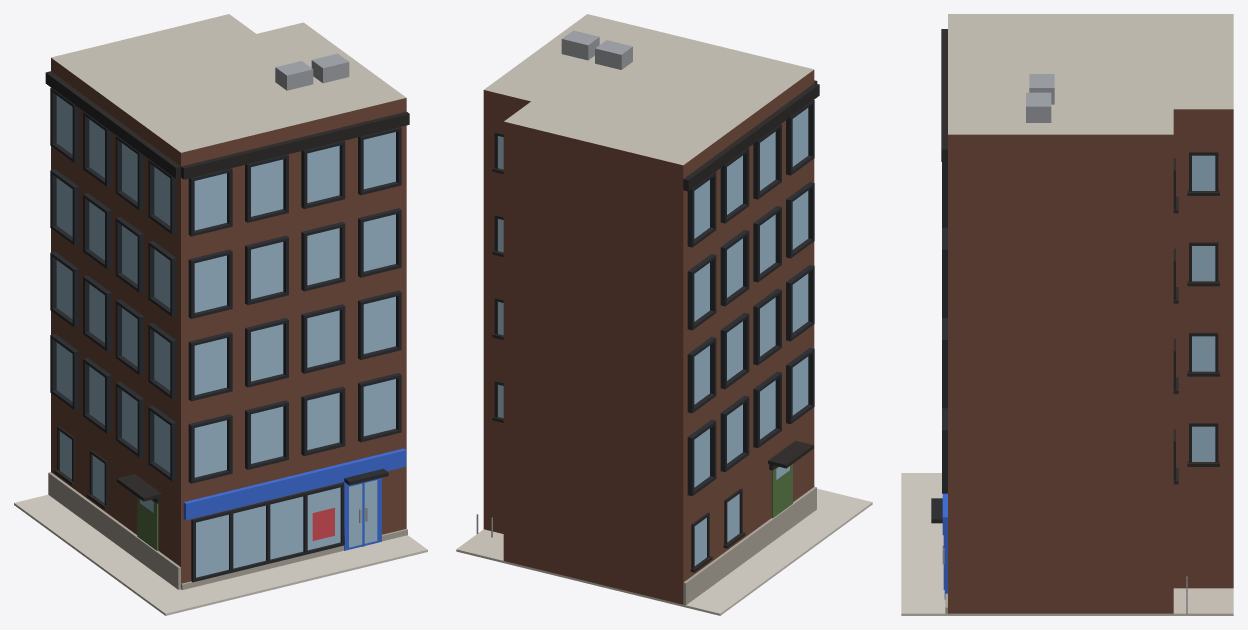
The model's file is Blok_kose_5k_4_Hafif.fbx.
The picture shows the model from 3 angles, left to right: view 1: azimuth 30°, elevation 25°; view 2: azimuth 150°, elevation 25°; view 3: azimuth 270°, elevation 25°; orthographic projection. The views are drawn at different scales.
Visible parts, largest first — view 1: Blok_kose_5k_4_Hafif; view 2: Blok_kose_5k_4_Hafif; view 3: Blok_kose_5k_4_Hafif.
Boxes of the visible parts, bbox=[...] form: Blok_kose_5k_4_Hafif: bbox=[14, 14, 427, 615]; Blok_kose_5k_4_Hafif: bbox=[456, 14, 872, 615]; Blok_kose_5k_4_Hafif: bbox=[901, 14, 1233, 615].
Bounding box in the file's own units: 10.02 × 16.57 × 10.
